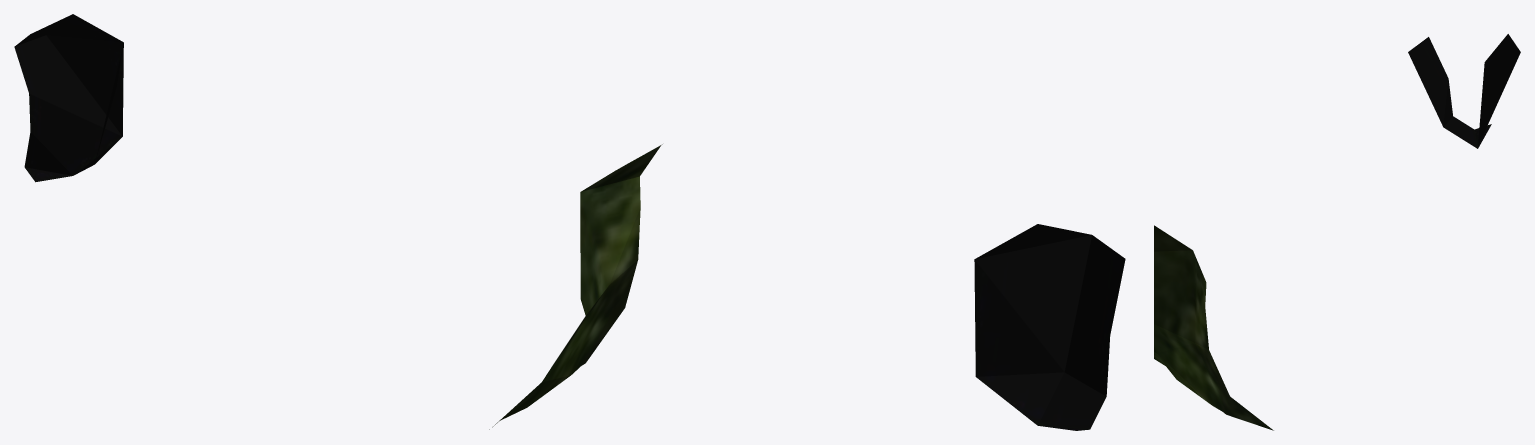
The picture shows the model from 3 angles, left to right: view 1: azimuth 30°, elevation 25°; view 2: azimuth 150°, elevation 25°; view 3: azimuth 270°, elevation 25°; orthographic projection. The views are drawn at different scales.
Size of the model in its own units: 0.8374 by 0.5873 by 0.7613.
1 material, 1 textured.
